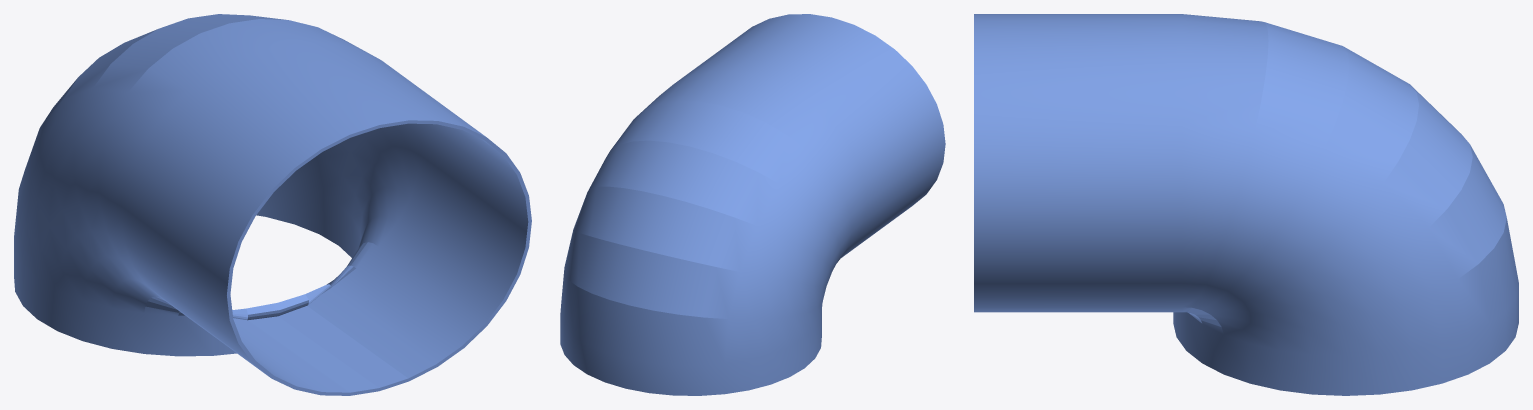
Rendered from üstdirsek.fbx.
3 views of the same model, side by side, from view 1: azimuth 30°, elevation 25°; view 2: azimuth 150°, elevation 25°; view 3: azimuth 270°, elevation 25° (orthographic). The views are drawn at different scales.
Parts seen in each view (by area): view 1: üstdirsek; view 2: üstdirsek; view 3: üstdirsek.
Boxes of the visible parts, left/top/right/bottom form: üstdirsek: left=14, top=14, right=531, bottom=395; üstdirsek: left=560, top=14, right=945, bottom=395; üstdirsek: left=974, top=14, right=1518, bottom=395.
Bounding box in the file's own units: 120 × 111 × 189.
